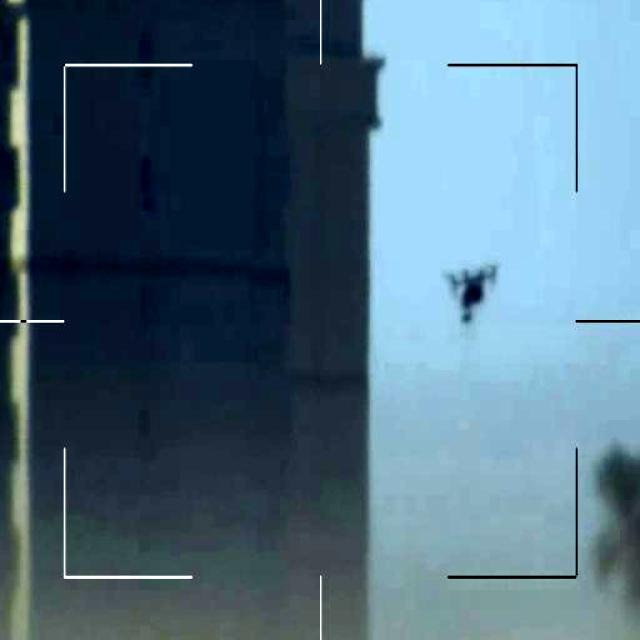bird: (441, 259, 504, 336)
